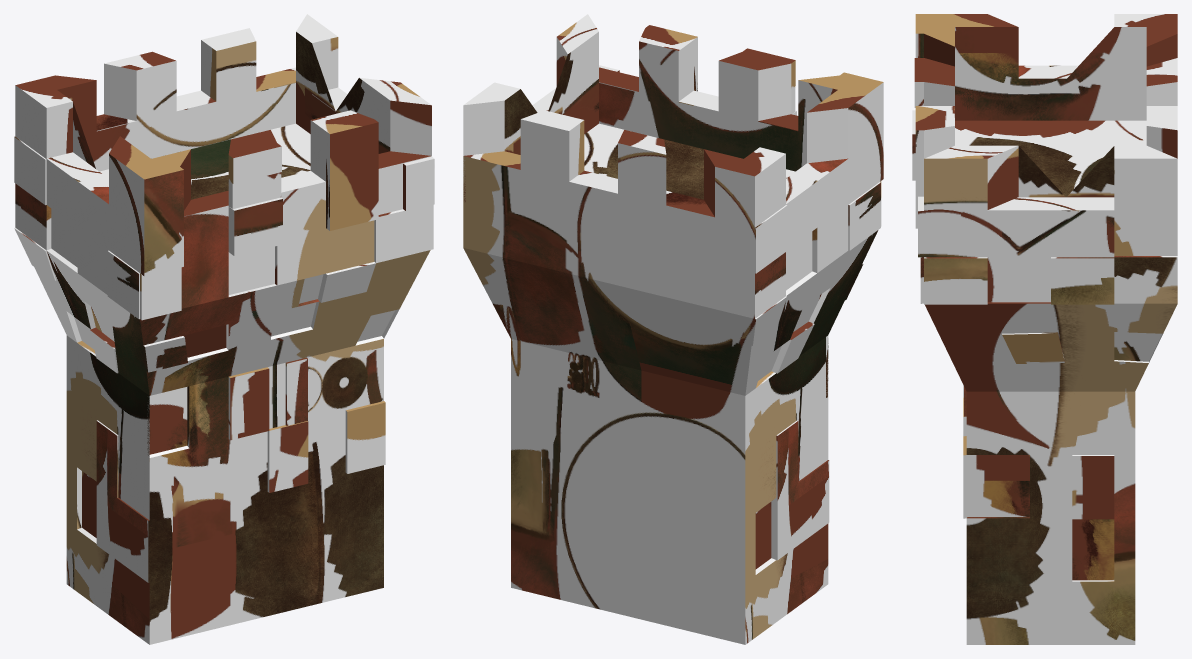
Rendered from tower.obj.
3 views of the same model, side by side, from view 1: azimuth 30°, elevation 25°; view 2: azimuth 150°, elevation 25°; view 3: azimuth 270°, elevation 25° (orthographic).
Visible parts, largest first — view 1: Tower; view 2: Tower; view 3: Tower.
Boxes of the visible parts, x1,y1,x2,y2 form: Tower: [14, 14, 434, 644]; Tower: [463, 14, 883, 644]; Tower: [912, 14, 1177, 644].
Size of the model in its own units: 19.86 by 31.64 by 15.24.
